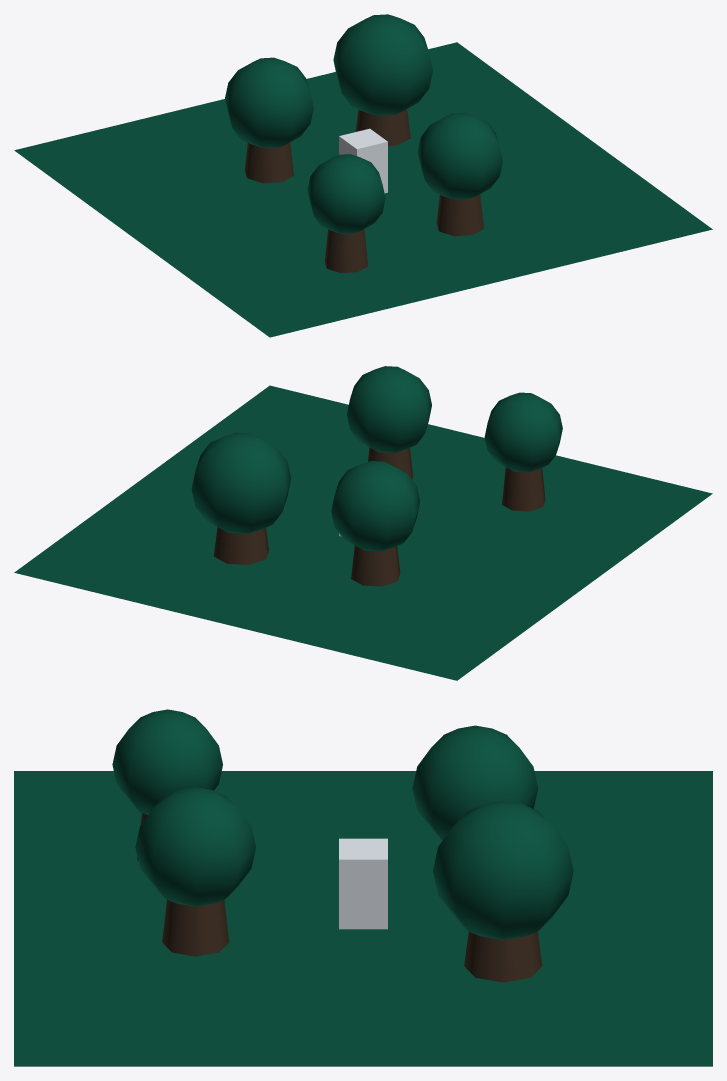
Rendered from nor_04.glb.
3 renders of one model, top to bottom at view 1: azimuth 30°, elevation 25°; view 2: azimuth 150°, elevation 25°; view 3: azimuth 270°, elevation 25°, orthographic. The views are drawn at different scales.
Visible parts, largest first — view 1: scenario_base_floor, NOR_04; view 2: scenario_base_floor, NOR_04; view 3: scenario_base_floor, NOR_04.
Boxes of the visible parts, <box> form: scenario_base_floor: <box>14,42,712,337</box>; NOR_04: <box>225,14,502,272</box>; scenario_base_floor: <box>14,385,712,680</box>; NOR_04: <box>191,366,562,586</box>; scenario_base_floor: <box>14,771,712,1066</box>; NOR_04: <box>112,709,573,982</box>.
Bounding box in the file's own units: 50 × 12.54 × 50.
